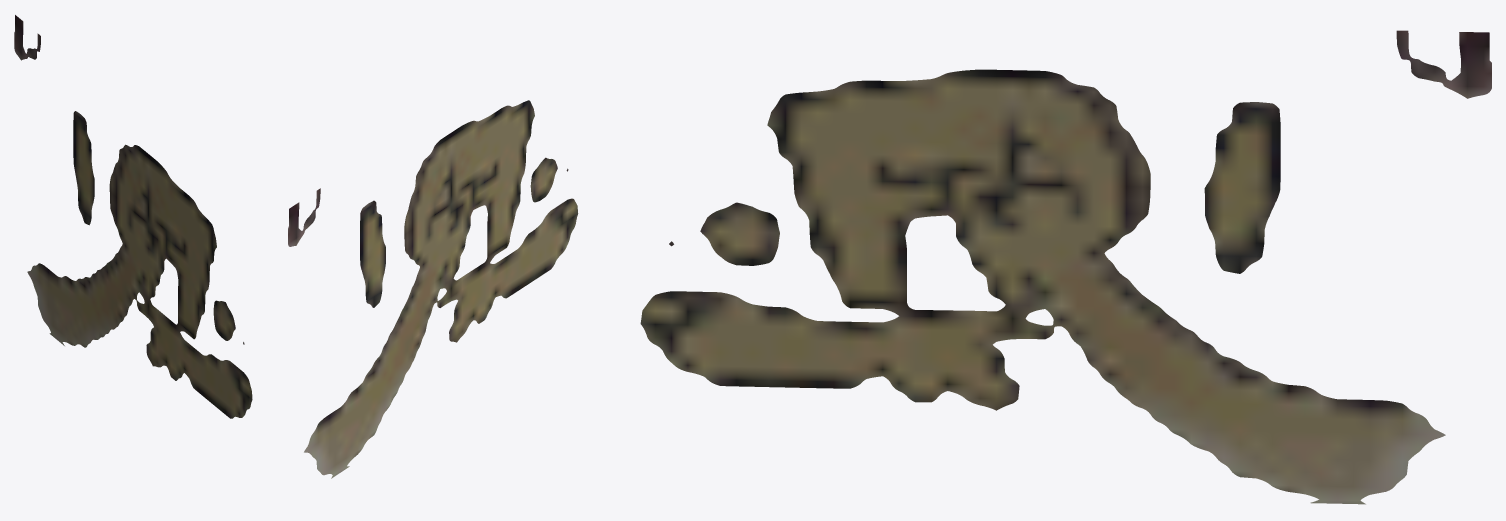
File: graffiti_Alt2.fbx
The picture shows the model from 3 angles, left to right: view 1: azimuth 30°, elevation 25°; view 2: azimuth 150°, elevation 25°; view 3: azimuth 270°, elevation 25°; orthographic projection. The views are drawn at different scales.
Parts seen in each view (by area): view 1: graffiti_Alt2; view 2: graffiti_Alt2; view 3: graffiti_Alt2.
Part boxes in pixels (<box>): graffiti_Alt2: <box>14,15,252,418</box>; graffiti_Alt2: <box>288,100,578,478</box>; graffiti_Alt2: <box>640,30,1491,504</box>.
Bounding box in the file's own units: 5.38 × 64.13 × 107.
1 material, 1 textured.
